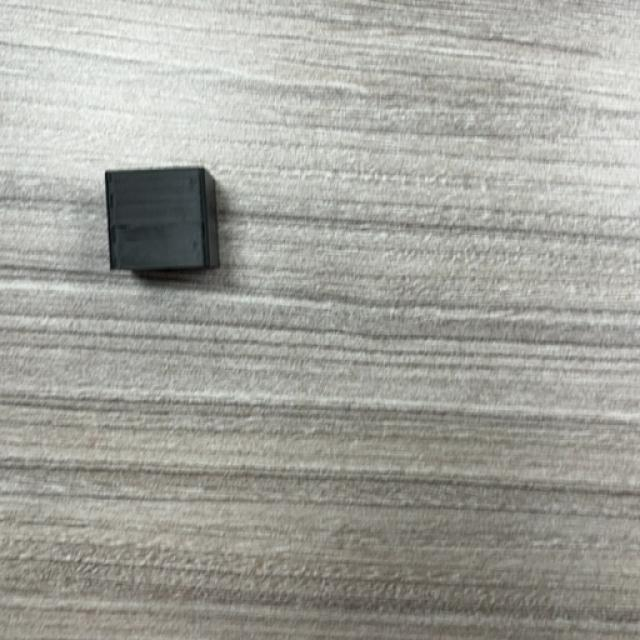Negro: (104, 166, 222, 275)
